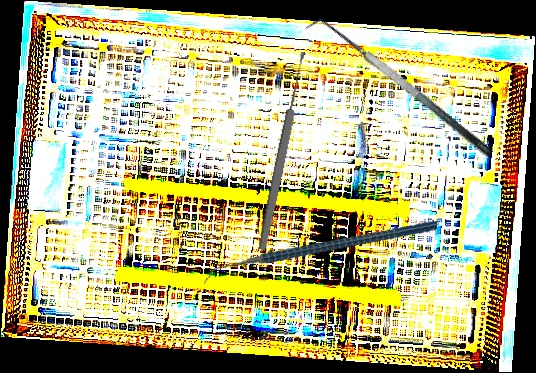Chopper: (203, 189, 438, 318)
Spatula Surgical: (304, 6, 495, 173)
Surgical Spoon: (256, 50, 310, 252)
